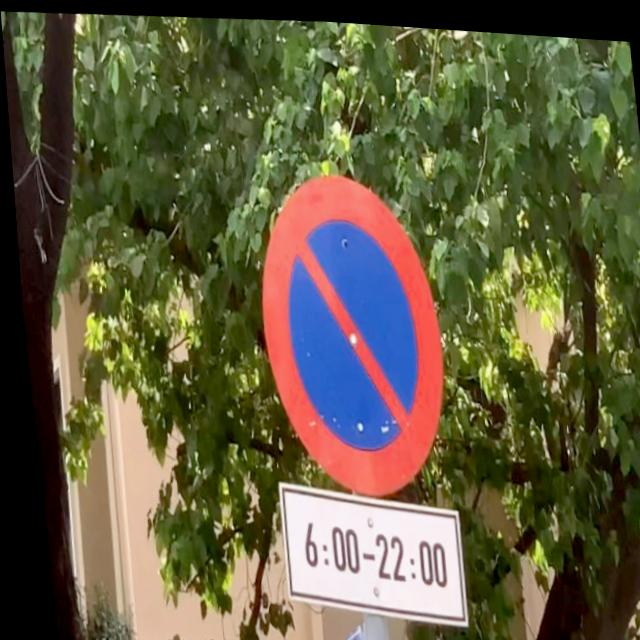Cam do xe: (242, 165, 453, 497)
